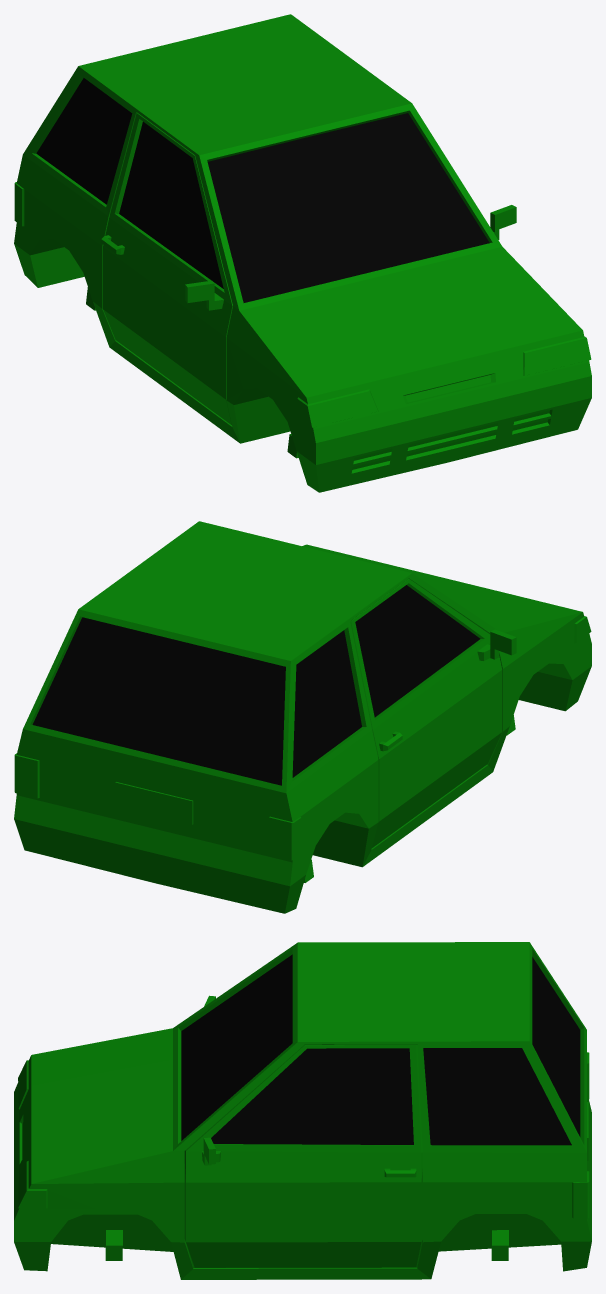
File: fgd_MODEL.fbx
3 views of the same model, one above another, from view 1: azimuth 30°, elevation 25°; view 2: azimuth 150°, elevation 25°; view 3: azimuth 270°, elevation 25° (orthographic). The views are drawn at different scales.
Parts seen in each view (by area): view 1: car body, windows, door r, win door r.001; view 2: car body, windows, door r, win door r.001, free number; view 3: car body, door l, windows, win door l.001.
Part boxes in pixels (<box>): car body: <box>14,14,591,492</box>; windows: <box>36,78,489,302</box>; door r: <box>101,113,232,424</box>; win door r.001: <box>119,121,223,288</box>; car body: <box>14,521,591,913</box>; windows: <box>32,617,361,785</box>; door r: <box>350,579,516,847</box>; win door r.001: <box>355,585,480,717</box>; free number: <box>115,782,193,824</box>; car body: <box>14,942,591,1279</box>; door l: <box>184,1044,422,1267</box>; windows: <box>181,954,580,1145</box>; win door l.001: <box>211,1048,413,1144</box>.
Bounding box in the file's own units: 218 × 151 × 346.
1 material, 1 textured.
